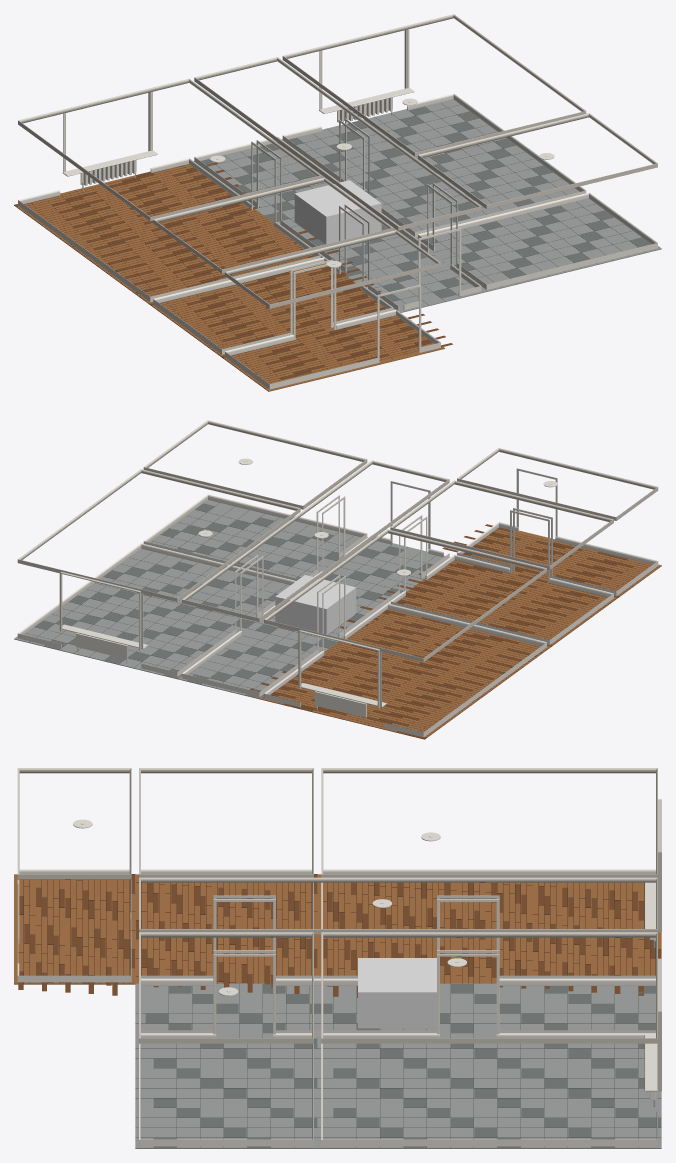
File: apartment_trim.glb
3 renders of one model, top to bottom at view 1: azimuth 30°, elevation 25°; view 2: azimuth 150°, elevation 25°; view 3: azimuth 270°, elevation 25°, orthographic. The views are drawn at different scales.
Parts seen in each view (by area): view 1: FloorWood_Office_Slab, FloorTile_Kitchen_Slab, FloorTile_Bath_Slab, FloorWood_Bedroom_Slab, FloorTile_Hall_Slab, FloorWood_Wardrobe_Slab, FloorWood_Office_Seams, FloorWood_Office_Accents, FloorTile_Kitchen_Accents, Cube, FloorWood_Bedroom_Seams, FloorWood_Bedroom_Accents (+32 smaller); view 2: FloorWood_Office_Slab, FloorTile_Kitchen_Slab, FloorTile_Hall_Slab, FloorWood_Bedroom_Slab, FloorTile_Bath_Slab, FloorWood_Office_Accents, FloorWood_Office_Seams, FloorTile_Kitchen_Accents, FloorWood_Wardrobe_Slab, Cube, FloorWood_Bedroom_Accents, FloorWood_Bedroom_Seams (+34 smaller); view 3: FloorTile_Kitchen_Slab, FloorWood_Office_Slab, FloorTile_Hall_Slab, FloorTile_Bath_Slab, FloorWood_Bedroom_Slab, FloorWood_Wardrobe_Slab, FloorTile_Kitchen_Accents, FloorWood_Office_Accents, Cube, FloorTile_Hall_Accents, FloorWood_Office_Seams, FloorTile_Bath_Accents (+35 smaller).
Part boxes in pixels (x1,y1,x2,y2): FloorWood_Office_Slab: [14, 164, 313, 303]; FloorTile_Kitchen_Slab: [296, 99, 579, 238]; FloorTile_Bath_Slab: [429, 198, 661, 291]; FloorWood_Bedroom_Slab: [149, 263, 383, 356]; FloorTile_Hall_Slab: [208, 142, 485, 312]; FloorWood_Wardrobe_Slab: [221, 316, 444, 391]; FloorWood_Office_Seams: [14, 164, 313, 300]; FloorWood_Office_Accents: [14, 162, 338, 293]; FloorTile_Kitchen_Accents: [282, 106, 552, 224]; Cube: [294, 180, 381, 244]; FloorWood_Bedroom_Seams: [150, 266, 385, 354]; FloorWood_Bedroom_Accents: [150, 261, 386, 343]; FloorWood_Office_Slab: [260, 609, 550, 739]; FloorTile_Kitchen_Slab: [14, 548, 290, 679]; FloorTile_Hall_Slab: [178, 540, 449, 699]; FloorWood_Bedroom_Slab: [401, 560, 617, 646]; FloorTile_Bath_Slab: [150, 500, 367, 577]; FloorWood_Office_Accents: [250, 606, 536, 738]; FloorWood_Office_Seams: [263, 610, 546, 738]; FloorTile_Kitchen_Accents: [35, 562, 277, 678]; FloorWood_Wardrobe_Slab: [471, 529, 661, 597]; Cube: [275, 575, 356, 634]; FloorWood_Bedroom_Accents: [378, 563, 598, 646]; FloorWood_Bedroom_Seams: [396, 560, 613, 646]; FloorTile_Kitchen_Slab: [317, 1038, 661, 1148]; FloorWood_Office_Slab: [317, 874, 661, 983]; FloorTile_Hall_Slab: [135, 983, 655, 1038]; FloorTile_Bath_Slab: [135, 1038, 317, 1148]; FloorWood_Bedroom_Slab: [135, 874, 317, 983]; FloorWood_Wardrobe_Slab: [14, 874, 135, 984]; FloorTile_Kitchen_Accents: [333, 1043, 661, 1147]; FloorWood_Office_Accents: [323, 882, 661, 997]; Cube: [358, 958, 436, 1028]; FloorTile_Hall_Accents: [145, 984, 655, 1033]; FloorWood_Office_Seams: [323, 882, 661, 983]; FloorTile_Bath_Accents: [153, 1038, 317, 1147].
Size of the model in its own units: 16 by 3.97 by 16.01.
